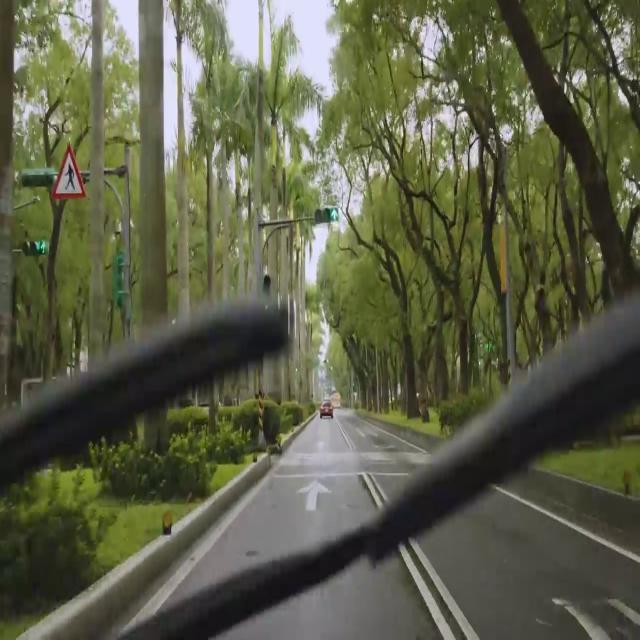green light: (314, 208, 340, 223)
